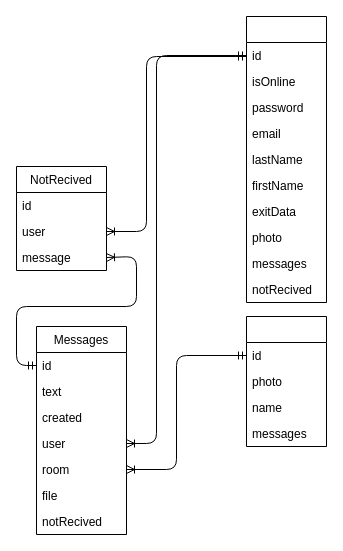
Some shapes in this 343 by 551 pixel diagram are drawn without their labels. The box of each missing label's shape, as (x1, y1, x2, y2) in pixels:
Rooms: (246, 316, 326, 446)
Users: (246, 16, 326, 302)
